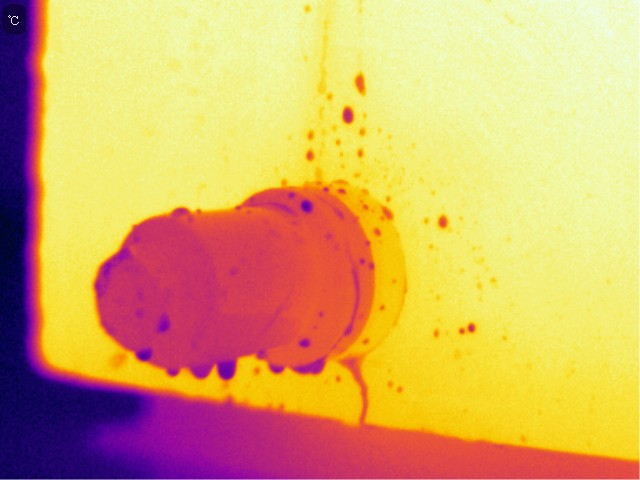Water: (339, 354, 382, 433), (347, 67, 379, 98), (296, 191, 328, 219), (319, 19, 330, 95), (378, 189, 404, 221), (460, 314, 483, 350), (291, 358, 330, 379), (168, 204, 197, 227), (190, 361, 213, 390), (216, 357, 238, 386), (152, 312, 177, 337), (126, 347, 158, 365), (264, 358, 286, 380), (366, 227, 391, 245), (232, 203, 258, 220), (427, 322, 442, 350), (359, 184, 373, 214), (285, 340, 319, 352), (339, 105, 358, 125), (164, 362, 181, 384), (298, 150, 320, 167), (227, 258, 243, 280), (359, 261, 380, 276), (302, 125, 319, 142), (437, 212, 450, 233), (352, 144, 368, 160), (252, 345, 267, 360), (360, 334, 373, 350), (337, 185, 351, 198), (355, 126, 369, 138), (378, 298, 387, 316), (250, 365, 262, 378), (280, 175, 294, 186), (303, 3, 311, 19), (323, 228, 332, 241), (390, 274, 396, 288)
